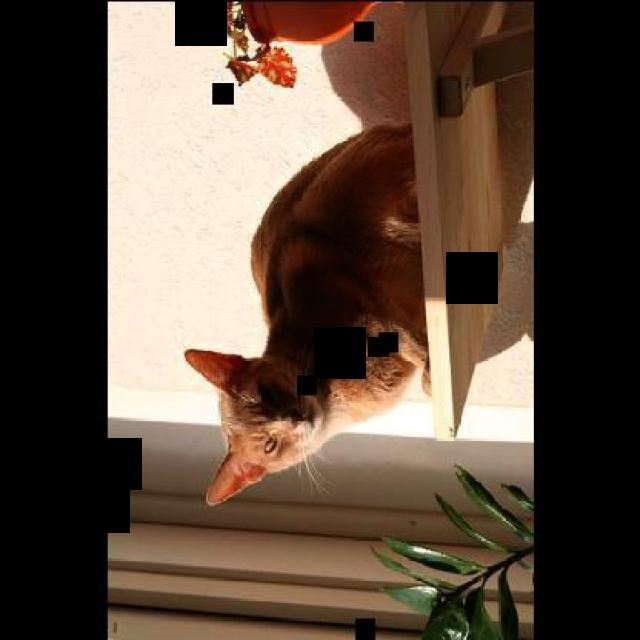unauthorized: (183, 119, 534, 506)
